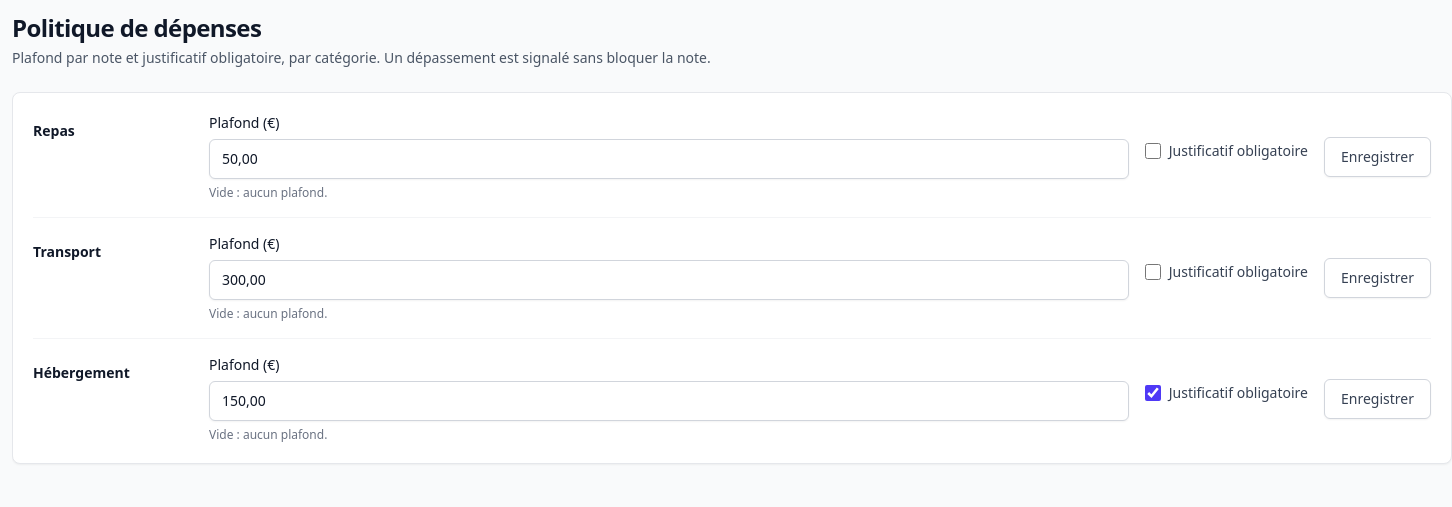
Test: PolicyPage › C3 – un plafond invalide est signalé sous le champ, sans rien envoyer
The width and height of the screenshot is (1452, 507).
Check: the element "Repas" is shown, box [33,113,1431,201]
Replace the text in the field labelled "Plafond (€)" below "Repas" with "0": (669, 159) [209,139,1129,179]
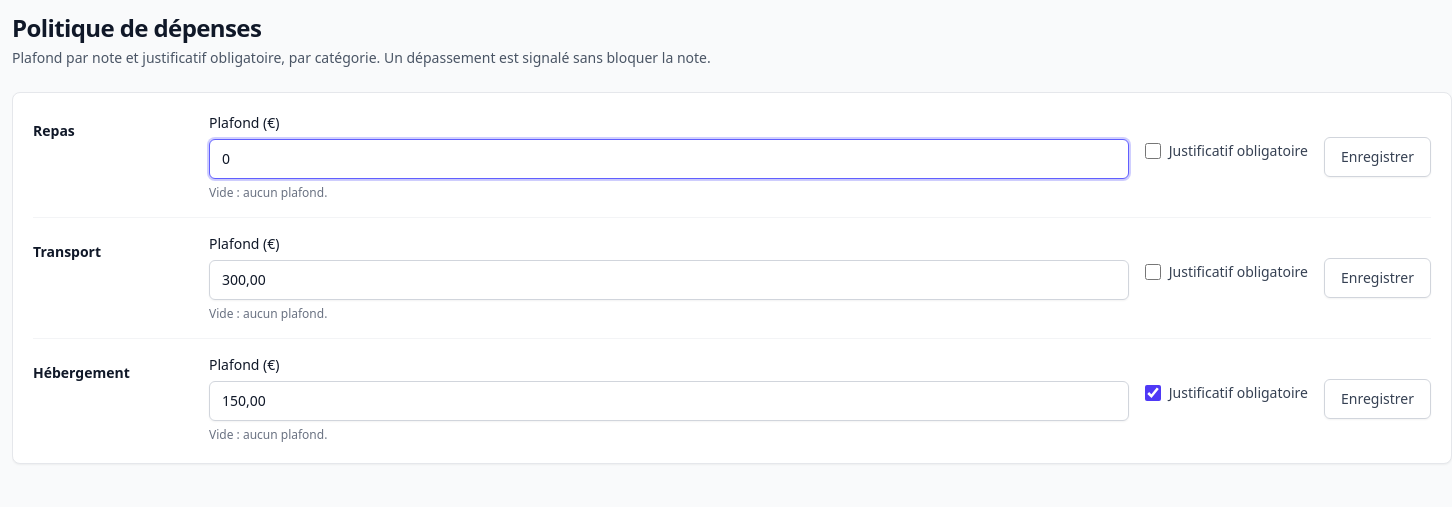
Click the button "Enregistrer" in the row of "Repas": (1378, 157) [1324,137,1431,177]
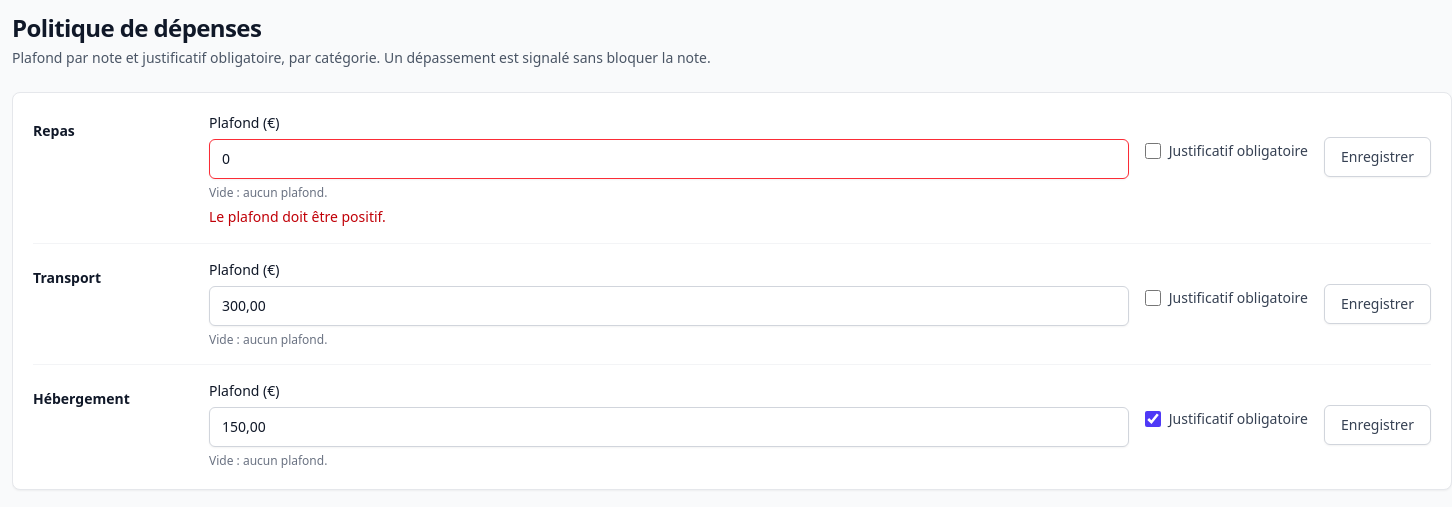
Check: the text "Le plafond doit être positif." is shown, box [209,207,386,226]
